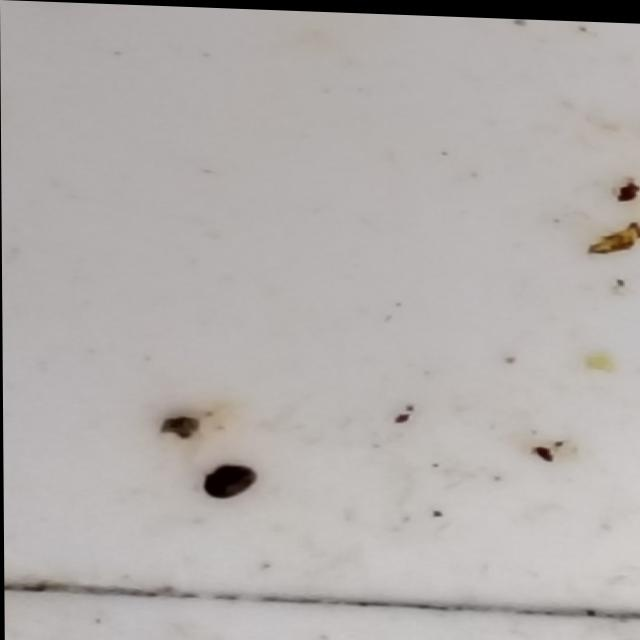varroa: (201, 460, 260, 502)
